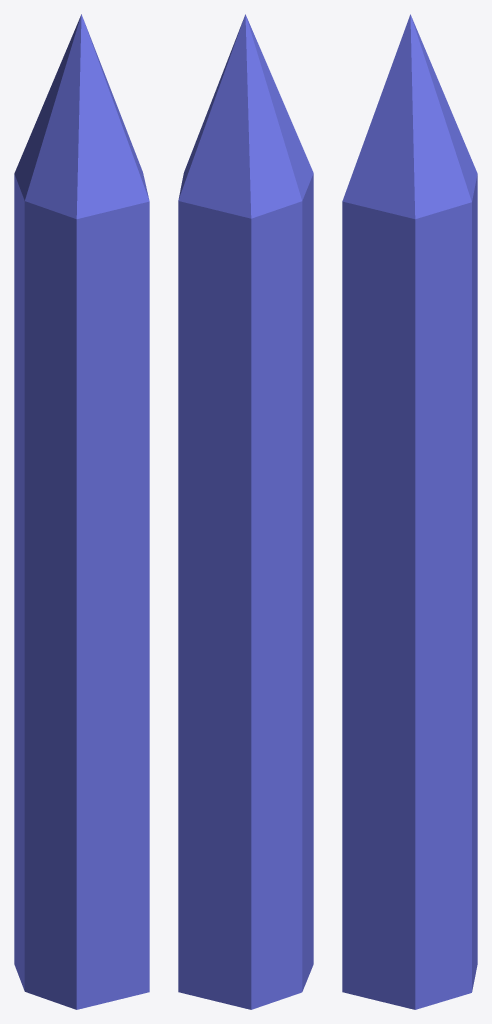
The model's file is UnderGroundSpike.fbx.
The picture shows the model from 3 angles, left to right: view 1: azimuth 30°, elevation 25°; view 2: azimuth 150°, elevation 25°; view 3: azimuth 330°, elevation 25°; orthographic projection.
Visible parts, largest first — view 1: UnderGroundSpike__1_; view 2: UnderGroundSpike__1_; view 3: UnderGroundSpike__1_.
Part boxes in pixels (x1,y1,x2,y2): UnderGroundSpike__1_: (14, 14, 149, 1009); UnderGroundSpike__1_: (178, 14, 313, 1009); UnderGroundSpike__1_: (342, 14, 477, 1009).
Bounding box in the file's own units: 930 × 7242 × 850.
